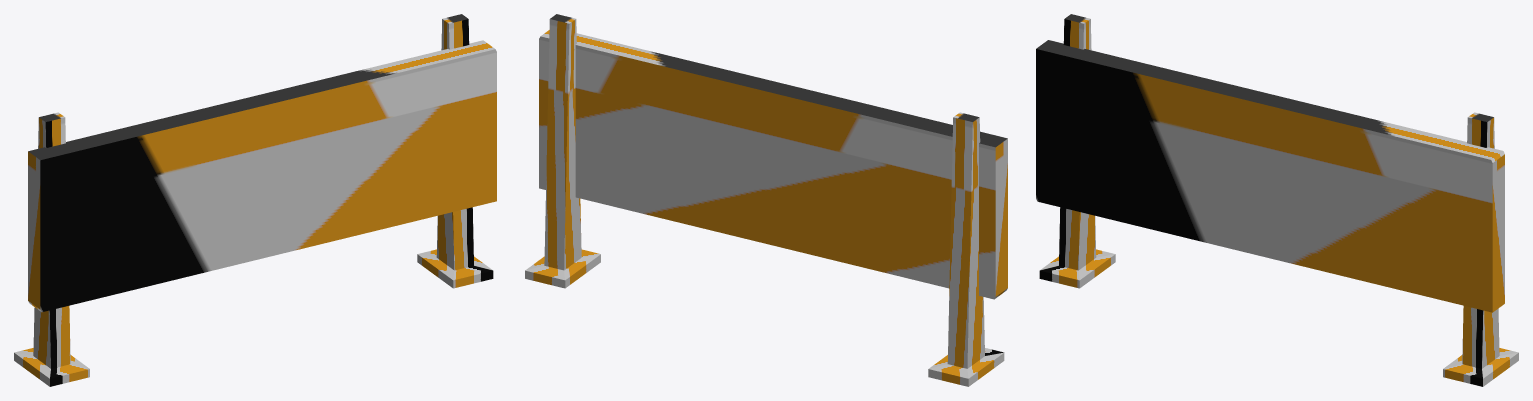
The model's file is RoadBarrier.fbx.
3 renders of one model, left to right at view 1: azimuth 30°, elevation 25°; view 2: azimuth 150°, elevation 25°; view 3: azimuth 330°, elevation 25°, orthographic.
Visible parts, largest first — view 1: Cube.001, Cube.002; view 2: Cube.001, Cube.002; view 3: Cube.001, Cube.002.
Boxes of the visible parts, left/top/right/bottom form: Cube.001: left=28, top=40, right=496, bottom=312; Cube.002: left=14, top=14, right=493, bottom=386; Cube.001: left=539, top=30, right=1007, bottom=299; Cube.002: left=525, top=14, right=1004, bottom=386; Cube.001: left=1036, top=40, right=1504, bottom=312; Cube.002: left=1039, top=14, right=1518, bottom=386.
Size of the model in its own units: 6.27 by 3.3 by 0.8538.
Materials: 1 (1 with a texture image).
